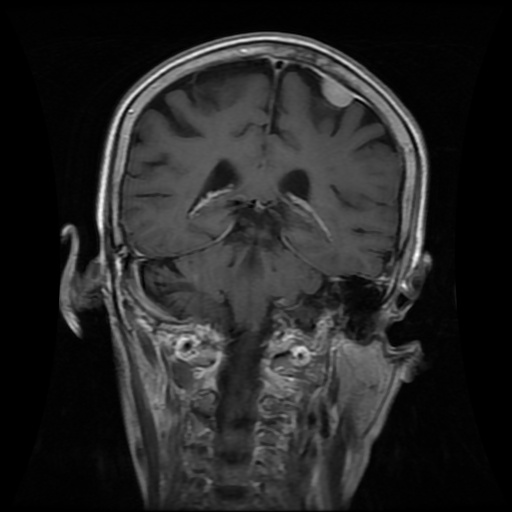meningioma: (321, 76, 353, 106)
